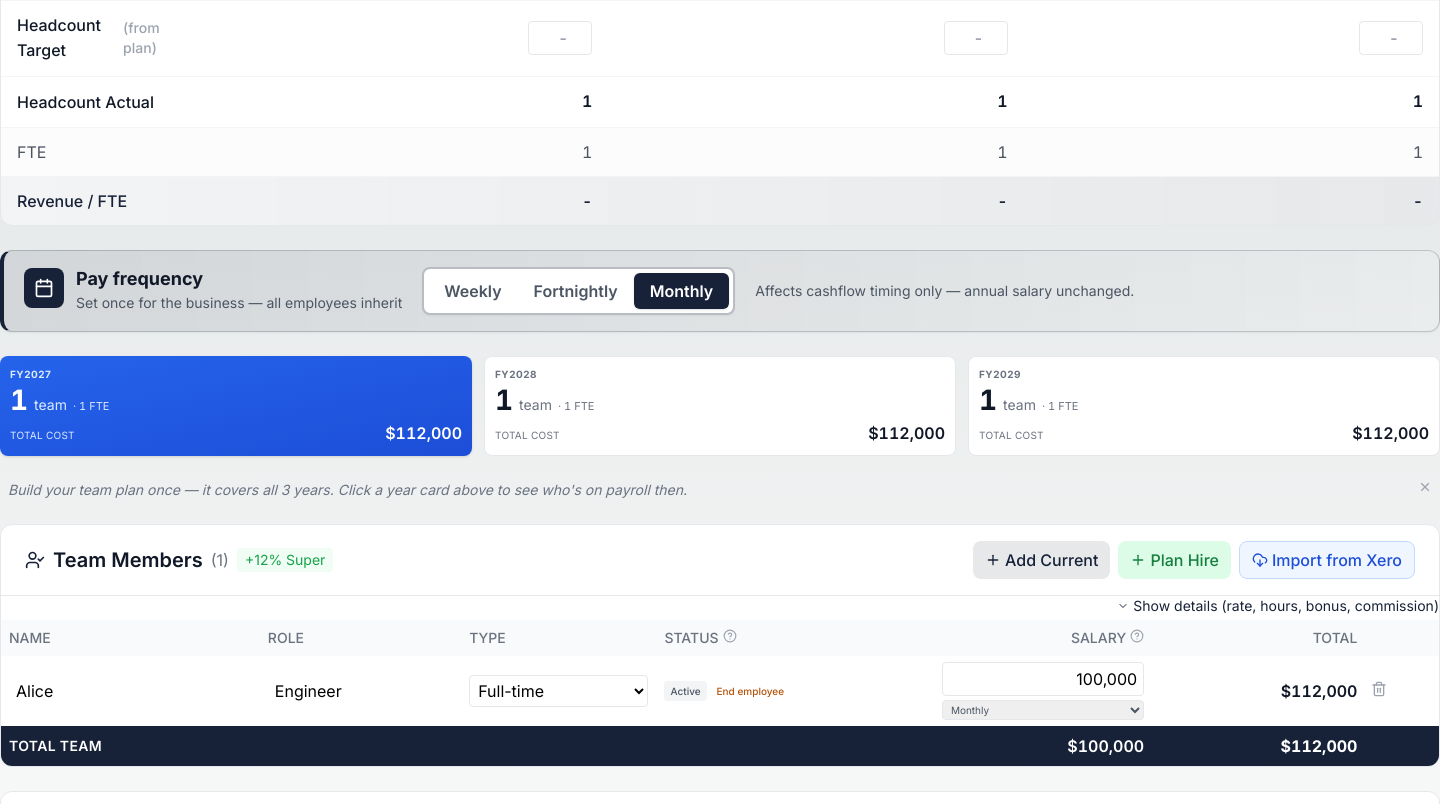
Test: Phase 55-01 — UX-S4-04: Step 4 year-card filter › clicking the same card twice toggles selection back to null (filter cleared)
The width and height of the screenshot is (1440, 804).
(page scrolled)
Click the button with test id "year-card-1" at [51, 404], box [0, 356, 472, 456]
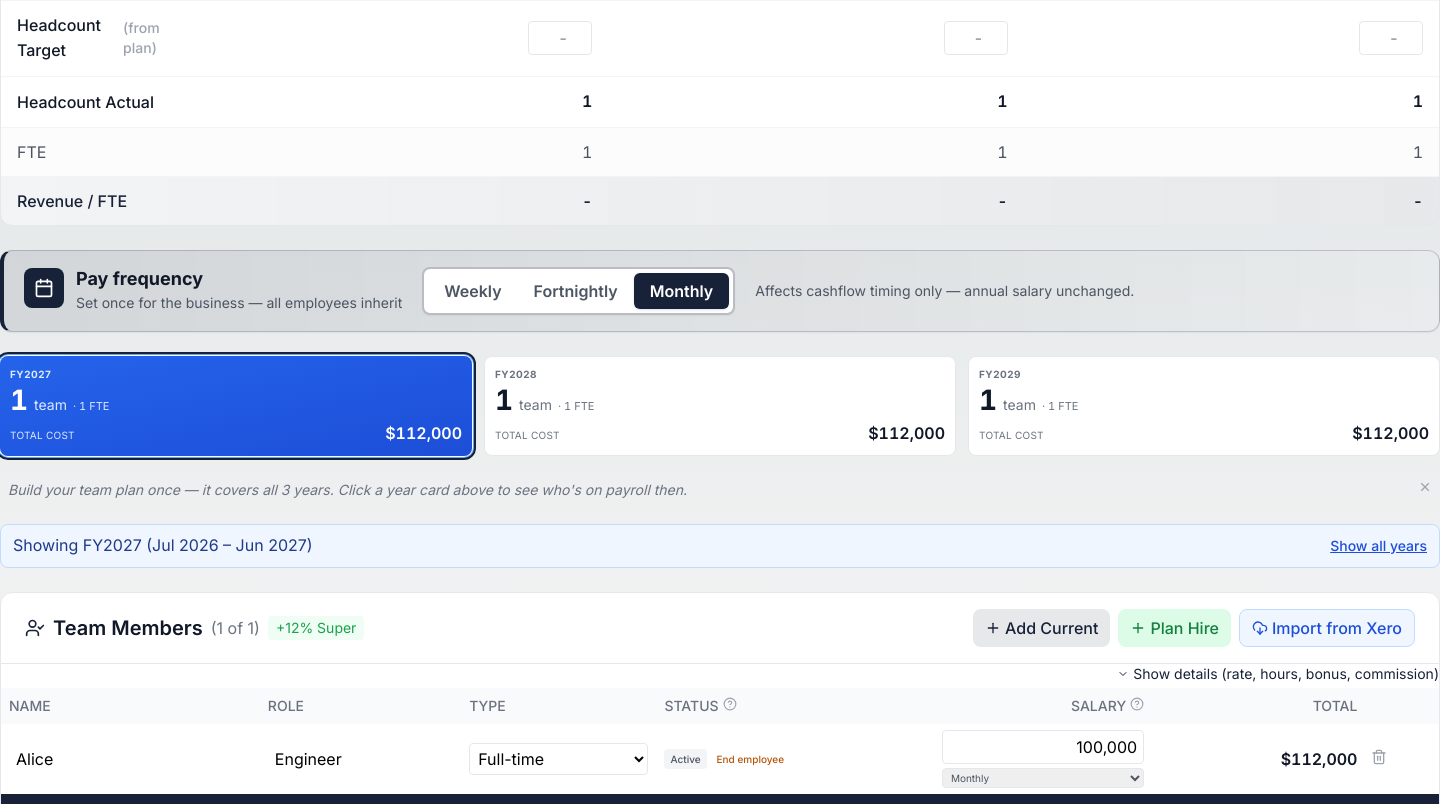
Click the button with test id "year-card-1" at [51, 404], box [0, 356, 472, 456]
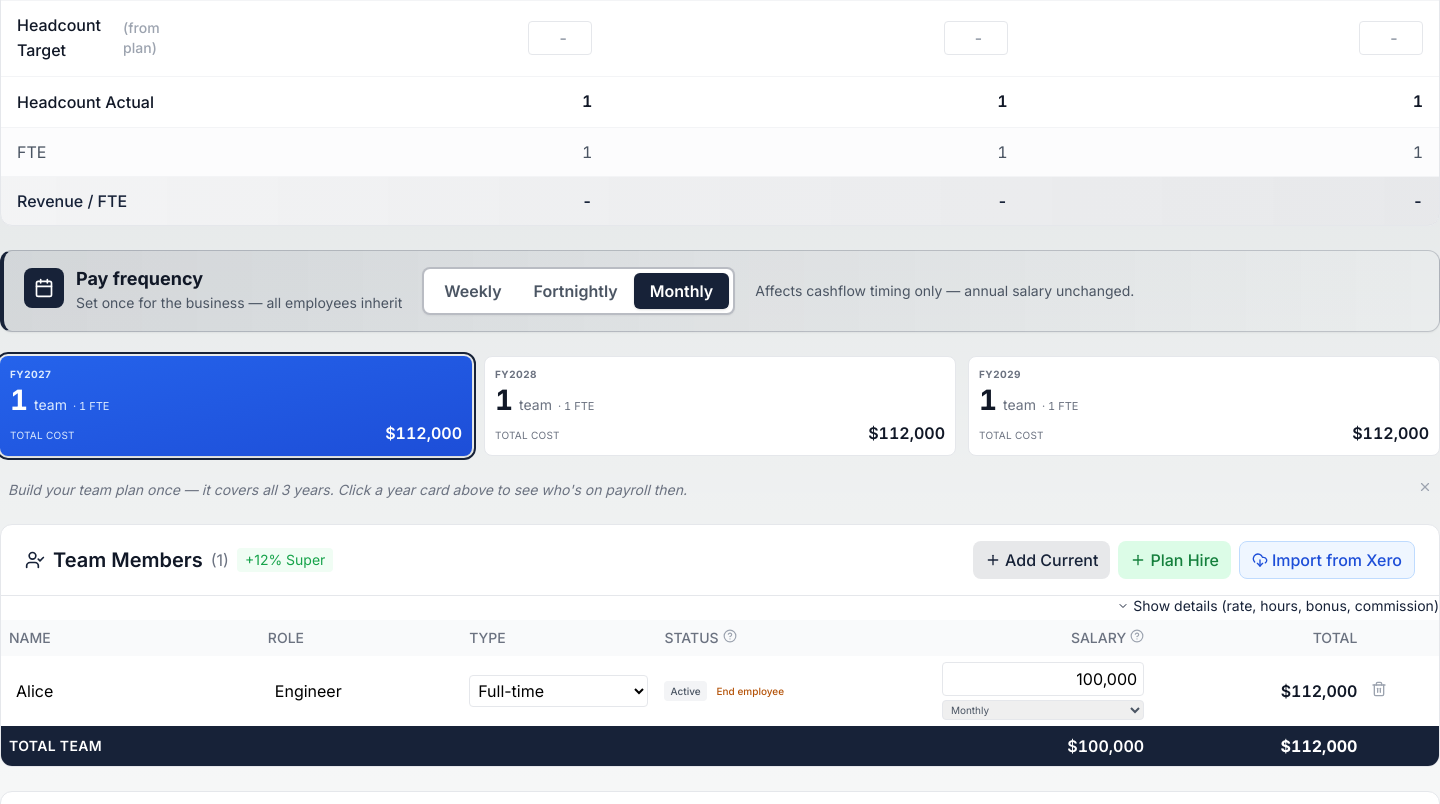
Result: the element with test id "year-filter-pill" is gone
